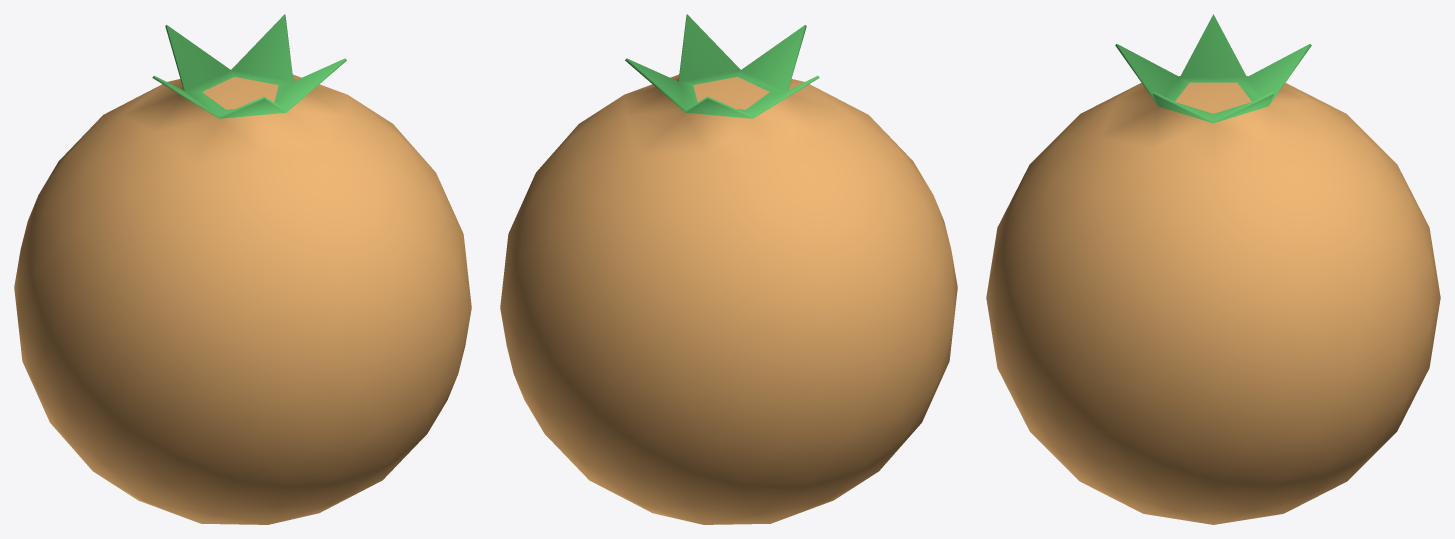
The model's file is Berry.fbx.
3 renders of one model, left to right at view 1: azimuth 30°, elevation 25°; view 2: azimuth 150°, elevation 25°; view 3: azimuth 270°, elevation 25°, orthographic.
Visible parts, largest first — view 1: Berry; view 2: Berry; view 3: Berry.
Part boxes in pixels (x1=…): Berry: x1=14, y1=14, x2=471, y2=524; Berry: x1=500, y1=14, x2=957, y2=524; Berry: x1=986, y1=14, x2=1440, y2=524.
Bounding box in the file's own units: 40 × 43.4 × 40.
